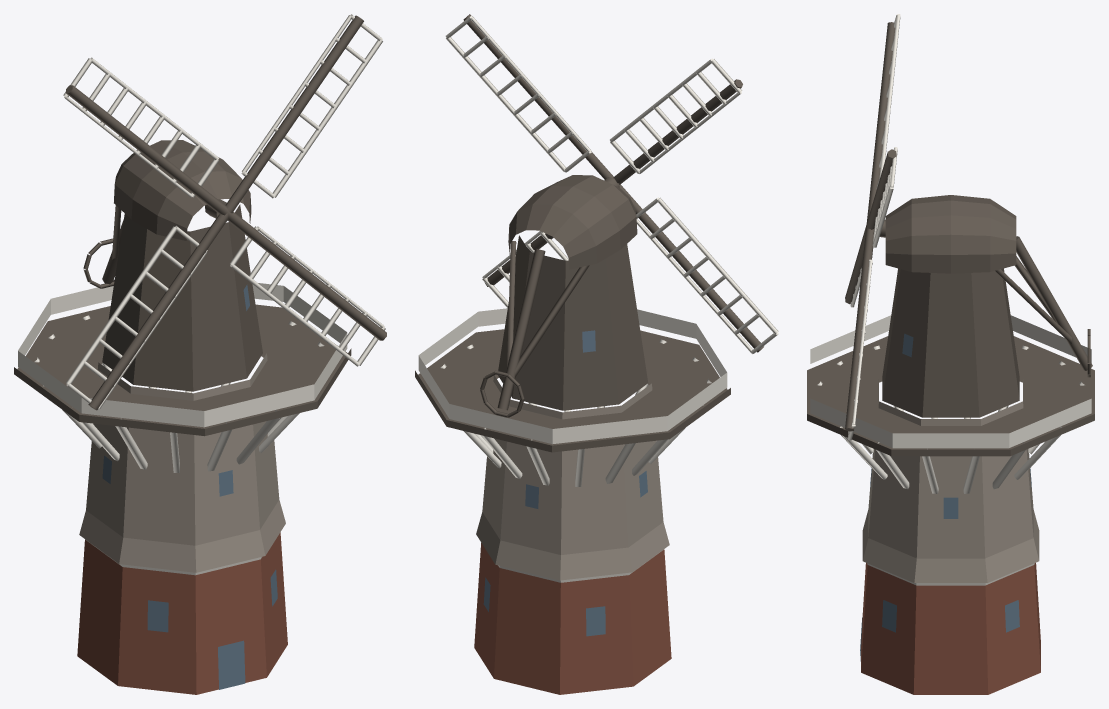
The model's file is amsterdam-de-gooyer.glb.
3 renders of one model, left to right at view 1: azimuth 30°, elevation 25°; view 2: azimuth 150°, elevation 25°; view 3: azimuth 270°, elevation 25°, orthographic. The views are drawn at different scales.
Visible parts, largest first — view 1: De Gooyer, sails; view 2: De Gooyer, sails; view 3: De Gooyer, sails.
Boxes of the visible parts, x1,y1,x2,y2 form: De Gooyer: [14, 140, 351, 694]; sails: [63, 14, 386, 410]; De Gooyer: [415, 175, 730, 694]; sails: [445, 14, 778, 353]; De Gooyer: [807, 195, 1094, 694]; sails: [845, 14, 900, 440].
Bounding box in the file's own units: 21.67 × 39.72 × 17.6.
